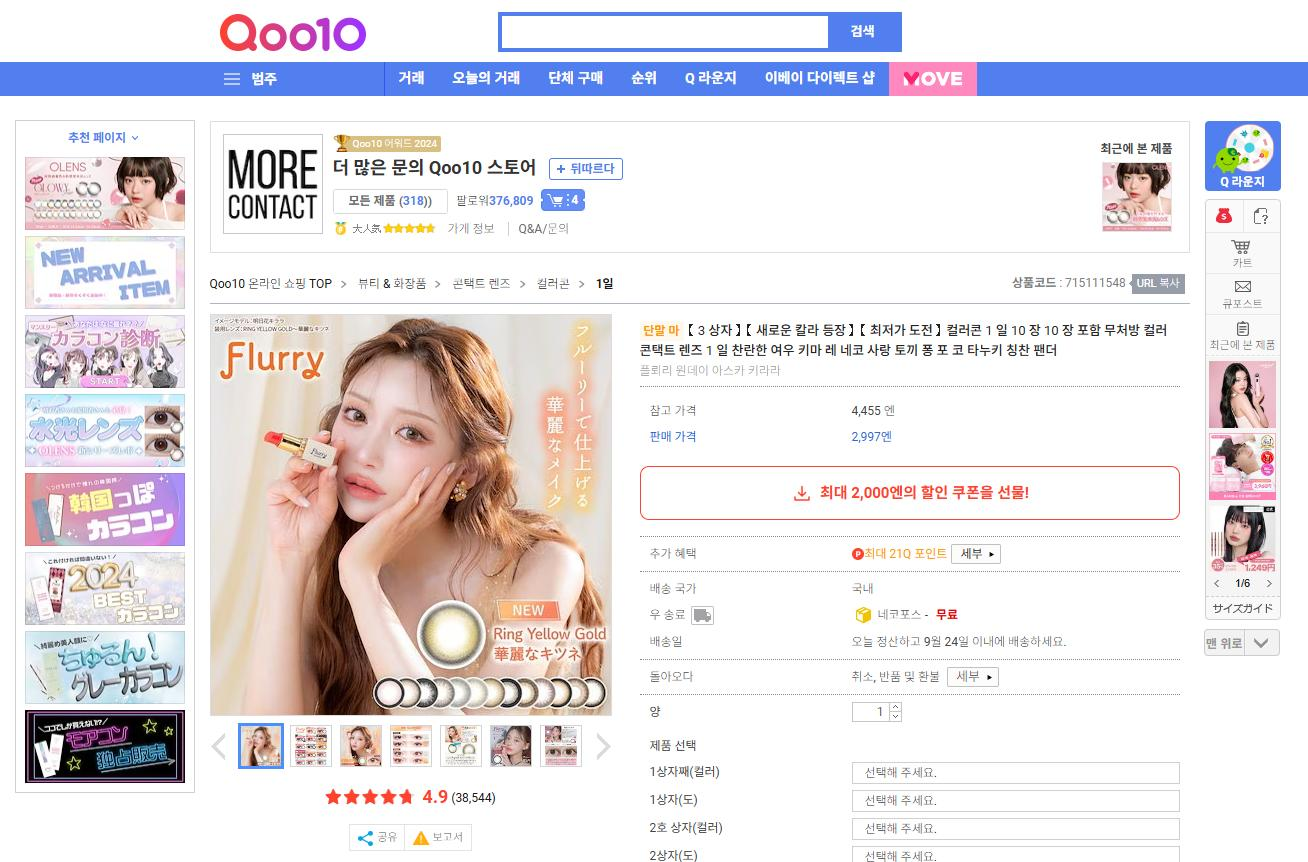button: (642, 466, 1168, 518), (1206, 121, 1281, 183), (1211, 365, 1273, 431), (1214, 511, 1274, 570), (1219, 434, 1278, 491), (336, 188, 446, 211), (236, 721, 285, 769), (885, 64, 976, 88), (1206, 630, 1280, 658), (225, 70, 309, 94), (498, 726, 538, 769), (764, 69, 869, 85), (1219, 318, 1271, 350), (341, 728, 381, 769), (1219, 234, 1271, 265), (540, 161, 629, 179), (290, 725, 326, 769), (451, 719, 485, 765), (535, 71, 611, 91), (393, 729, 431, 763), (541, 726, 569, 768), (1229, 280, 1270, 308), (349, 824, 401, 845), (418, 826, 474, 845), (390, 66, 434, 90), (950, 670, 1010, 687), (686, 73, 745, 89), (853, 700, 905, 718), (1135, 274, 1181, 294), (458, 68, 508, 86), (545, 189, 580, 210), (591, 734, 615, 761), (635, 71, 668, 90), (961, 545, 994, 564), (1218, 204, 1240, 229), (1249, 205, 1275, 223)
input_field: (495, 15, 896, 51), (850, 789, 1178, 814), (851, 819, 1176, 838), (856, 766, 1180, 785), (855, 847, 1176, 862)
popup: (12, 124, 188, 793)
